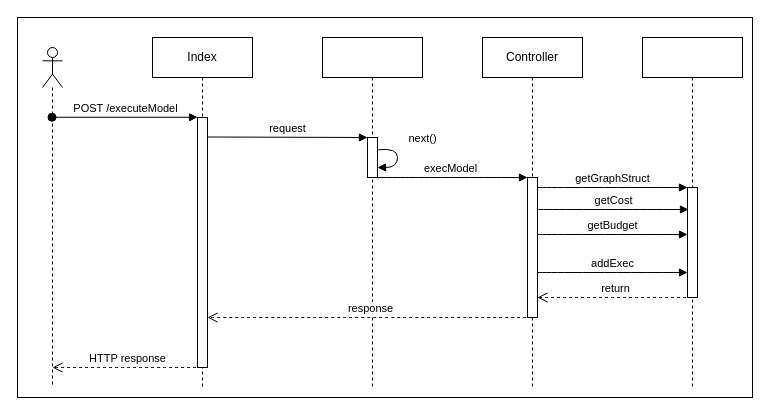
The diagram is 770 pixels wide and 415 high, and some of its shapes have lost their labels. The shapes that lost their labels are listed below. From the top down, each one's centre as x and y in pixels, then its label:
the point at 372,212: Middleware
the point at 692,212: Model
